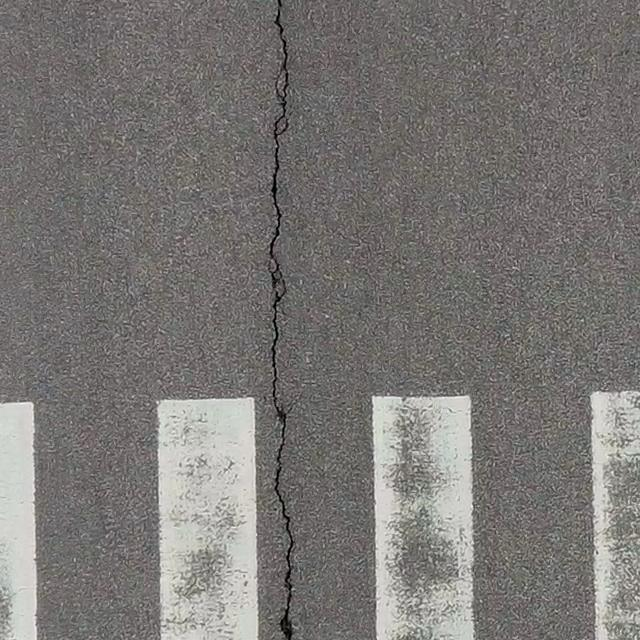GRIETA: (268, 0, 294, 639)
